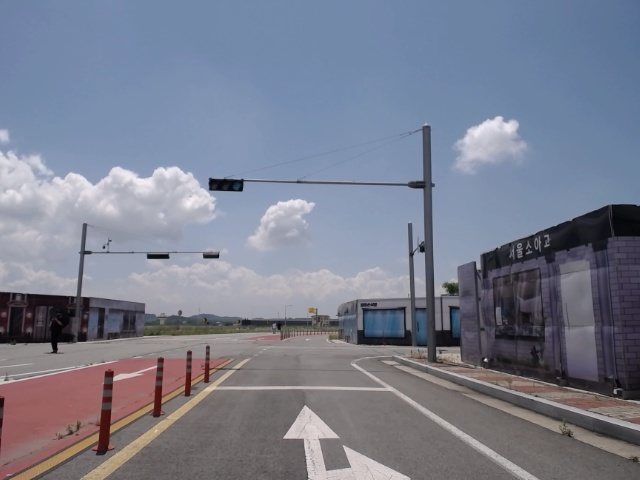green_3: (210, 178, 242, 191)
